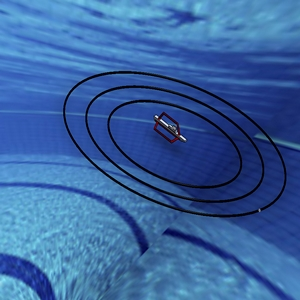circle: (48, 55, 294, 227)
submarine: (151, 105, 187, 157)
